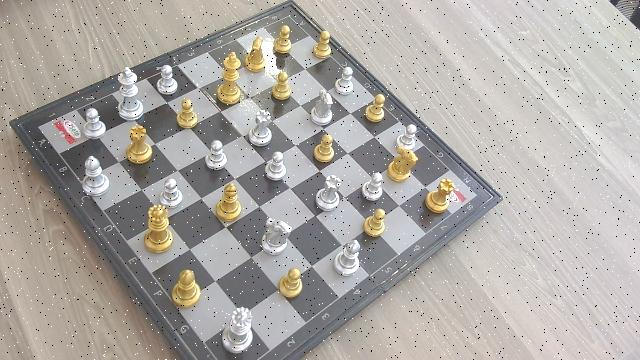black_bishop: (172, 267, 202, 309), (216, 183, 243, 223)
black_king: (215, 52, 242, 105)
black_knight: (388, 146, 418, 184), (245, 37, 266, 73)
black_pawn: (279, 267, 304, 301), (363, 205, 386, 237), (312, 133, 336, 163), (364, 93, 387, 124), (177, 99, 199, 130), (272, 25, 293, 54), (272, 71, 292, 101), (311, 31, 333, 58)
black_queen: (144, 205, 173, 254)
black_rook: (125, 125, 152, 165), (425, 178, 454, 213)
white_bishop: (331, 237, 362, 281), (81, 155, 110, 198)
white_king: (116, 67, 144, 122)
white_knight: (261, 216, 294, 257), (310, 90, 333, 126)
white_pawn: (83, 106, 107, 141), (204, 139, 228, 171), (160, 179, 185, 208), (395, 122, 418, 153), (156, 64, 178, 95), (266, 151, 287, 180), (362, 171, 383, 200), (334, 68, 354, 95)
white_queen: (221, 305, 256, 355)
white_rook: (314, 174, 342, 212), (250, 109, 273, 146)
